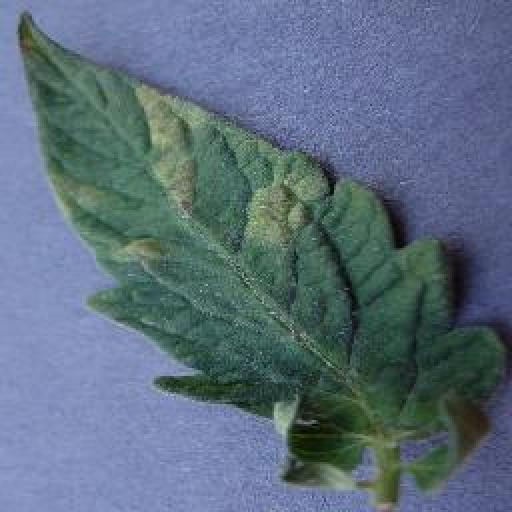disease_tomato: (16, 9, 510, 492)
